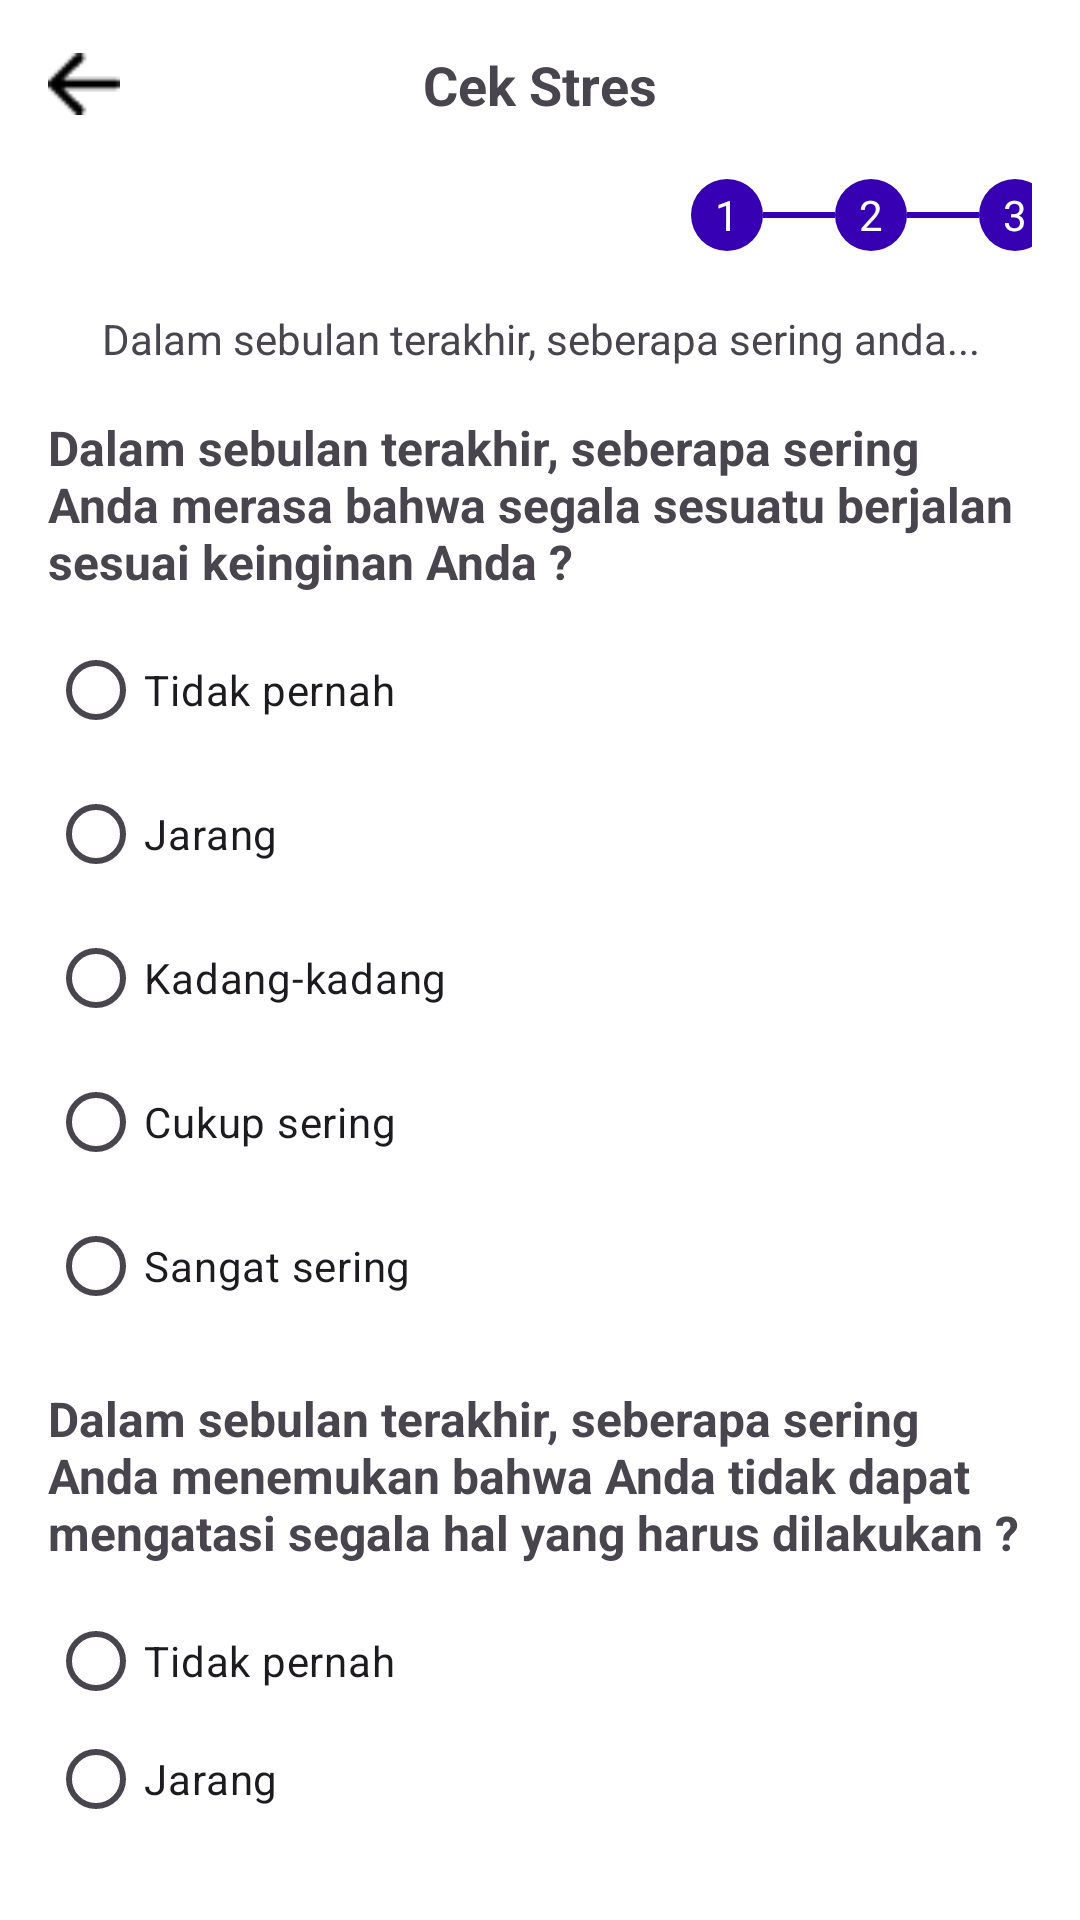

Icons on this 1080*1920 Android screen, each with the point to tap as (x=x, y=y):
Kembali: (x=84, y=84)
